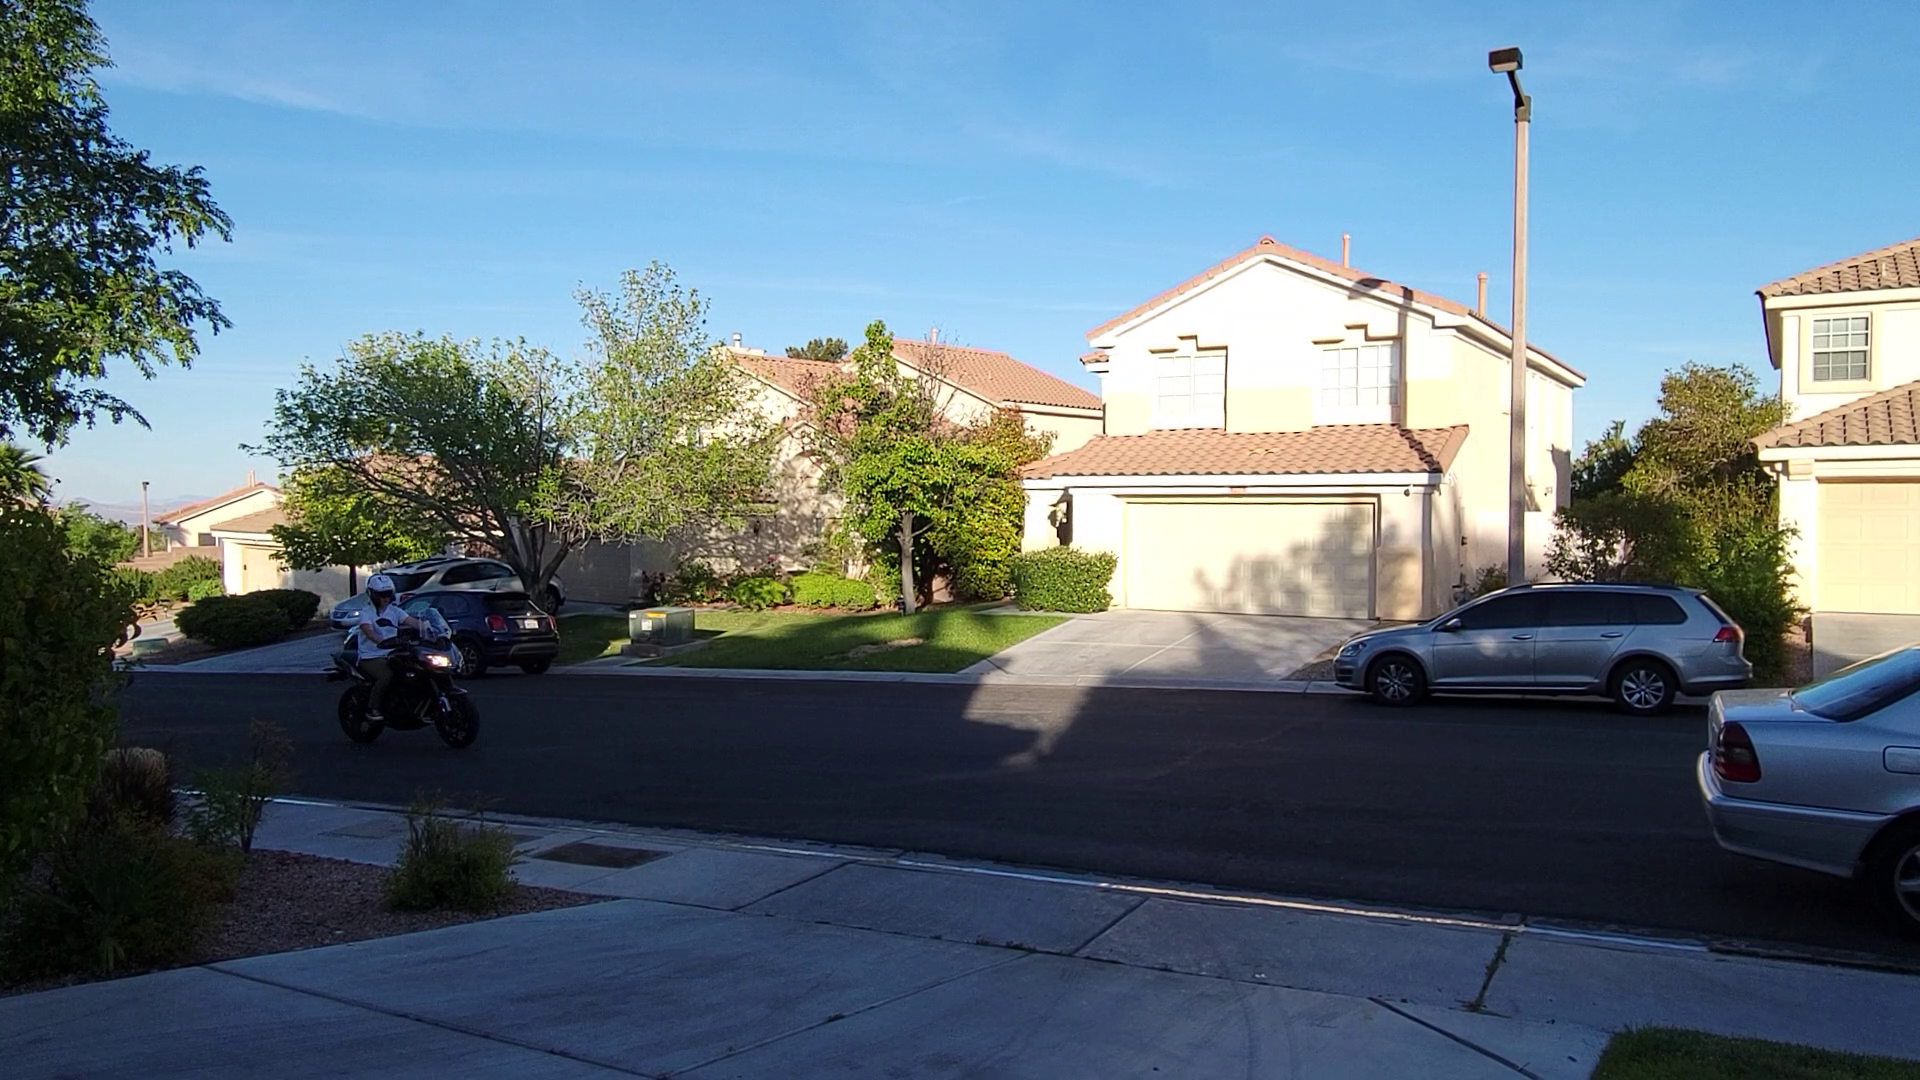my bike: (319, 570, 484, 750)
